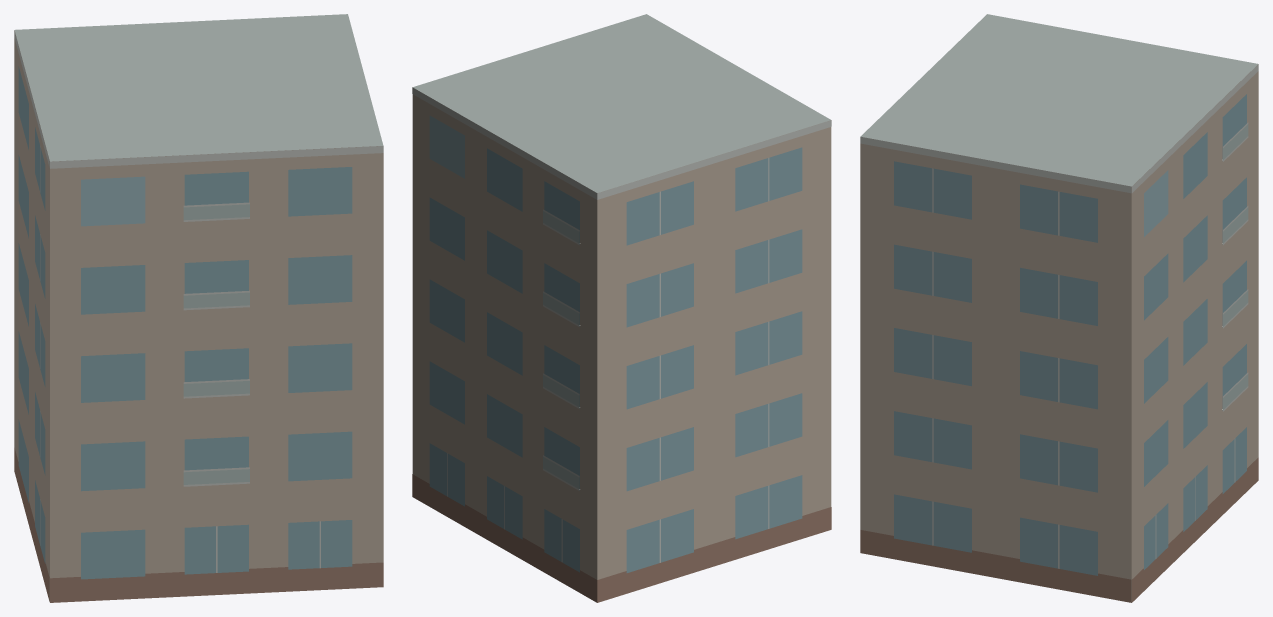
File: survey-upis-32531946.glb
3 renders of one model, left to right at view 1: azimuth 30°, elevation 25°; view 2: azimuth 150°, elevation 25°; view 3: azimuth 270°, elevation 25°, orthographic. The views are drawn at different scales.
Visible parts, largest first — view 1: survey-upis-32531946.tmp; view 2: survey-upis-32531946.tmp; view 3: survey-upis-32531946.tmp.
Boxes of the visible parts, x1,y1,x2,y2 form: survey-upis-32531946.tmp: (14, 14, 383, 602); survey-upis-32531946.tmp: (412, 14, 831, 602); survey-upis-32531946.tmp: (860, 14, 1258, 602).
Bounding box in the file's own units: 13.16 × 14.8 × 12.84.
